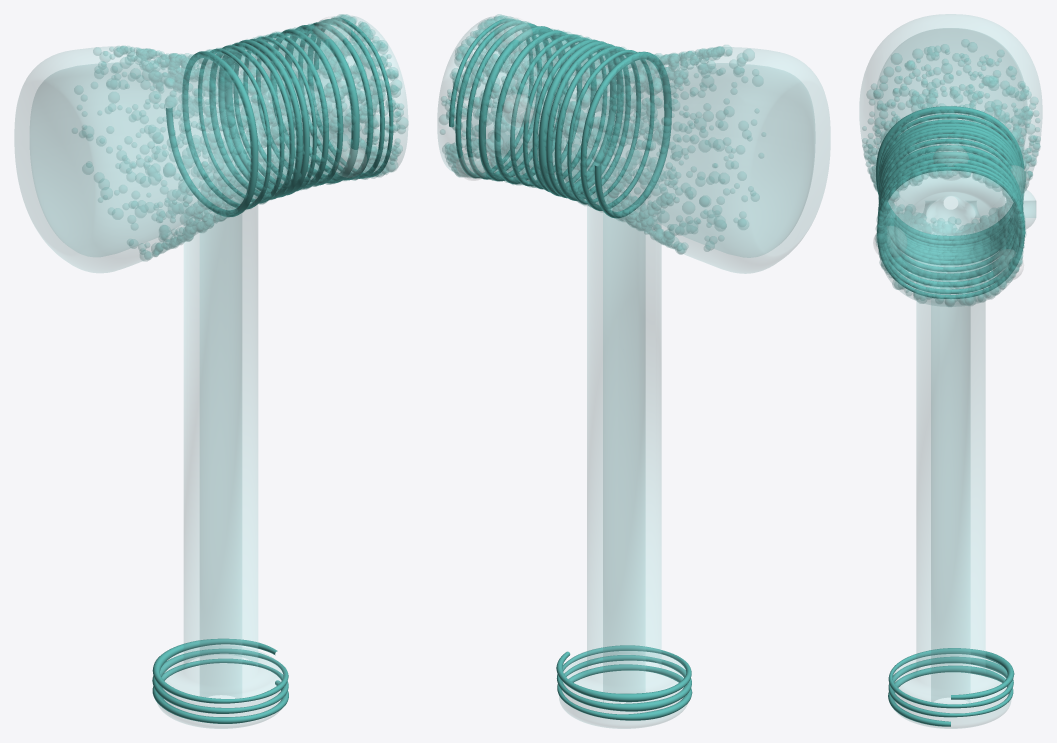
Rendered from hammer_teal_silver.glb.
The picture shows the model from 3 angles, left to right: view 1: azimuth 30°, elevation 25°; view 2: azimuth 150°, elevation 25°; view 3: azimuth 270°, elevation 25°; orthographic projection. The views are drawn at different scales.
Parts seen in each view (by area): view 1: body, frit, lines, marbles; view 2: body, frit, lines, marbles; view 3: body, frit, lines, marbles.
Part boxes in pixels (x1,y1,x2,y2): body: (14, 16, 407, 728); frit: (81, 14, 408, 261); lines: (152, 17, 393, 723); marbles: (258, 16, 366, 177); body: (437, 16, 830, 728); frit: (439, 14, 758, 254); lines: (449, 18, 692, 720); marbles: (456, 17, 534, 180); body: (859, 14, 1042, 728); frit: (862, 39, 1040, 306); lines: (876, 106, 1026, 726); marbles: (873, 144, 1028, 279).
Size of the model in its own units: 0.0682 by 0.1398 by 0.0371.
